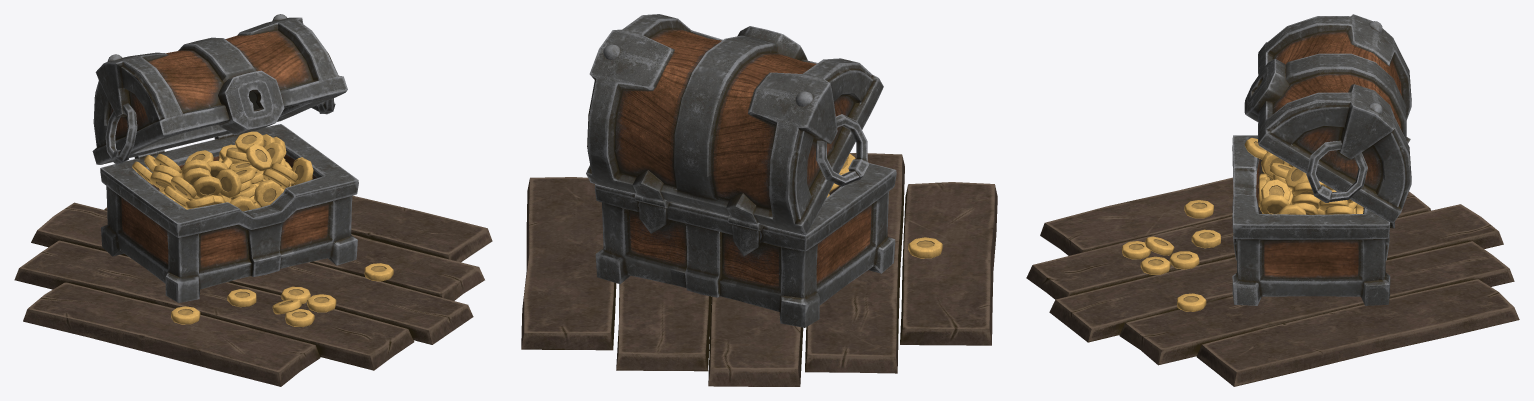
File: treasure_chest.fbx
The picture shows the model from 3 angles, left to right: view 1: azimuth 30°, elevation 25°; view 2: azimuth 150°, elevation 25°; view 3: azimuth 270°, elevation 25°; orthographic projection. The views are drawn at different scales.
Visible parts, largest first — view 1: Chest_1stage_base_low, Chest_1stage_planks_low, Chest_1stage_coins_low; view 2: Chest_1stage_base_low, Chest_1stage_planks_low, Chest_1stage_coins_low; view 3: Chest_1stage_planks_low, Chest_1stage_base_low, Chest_1stage_coins_low.
Boxes of the visible parts, x1=… form: Chest_1stage_base_low: x1=92, y1=14, x2=358, y2=302; Chest_1stage_planks_low: x1=14, y1=195, x2=492, y2=386; Chest_1stage_coins_low: x1=132, y1=131, x2=393, y2=326; Chest_1stage_base_low: x1=586, y1=14, x2=896, y2=327; Chest_1stage_planks_low: x1=521, y1=153, x2=997, y2=386; Chest_1stage_coins_low: x1=827, y1=153, x2=942, y2=258; Chest_1stage_planks_low: x1=1026, y1=177, x2=1519, y2=386; Chest_1stage_base_low: x1=1232, y1=14, x2=1411, y2=305; Chest_1stage_coins_low: x1=1122, y1=138, x2=1363, y2=311.
Size of the model in its own units: 1.17 by 0.5554 by 1.14.
Materials: 3 (3 with a texture image).
